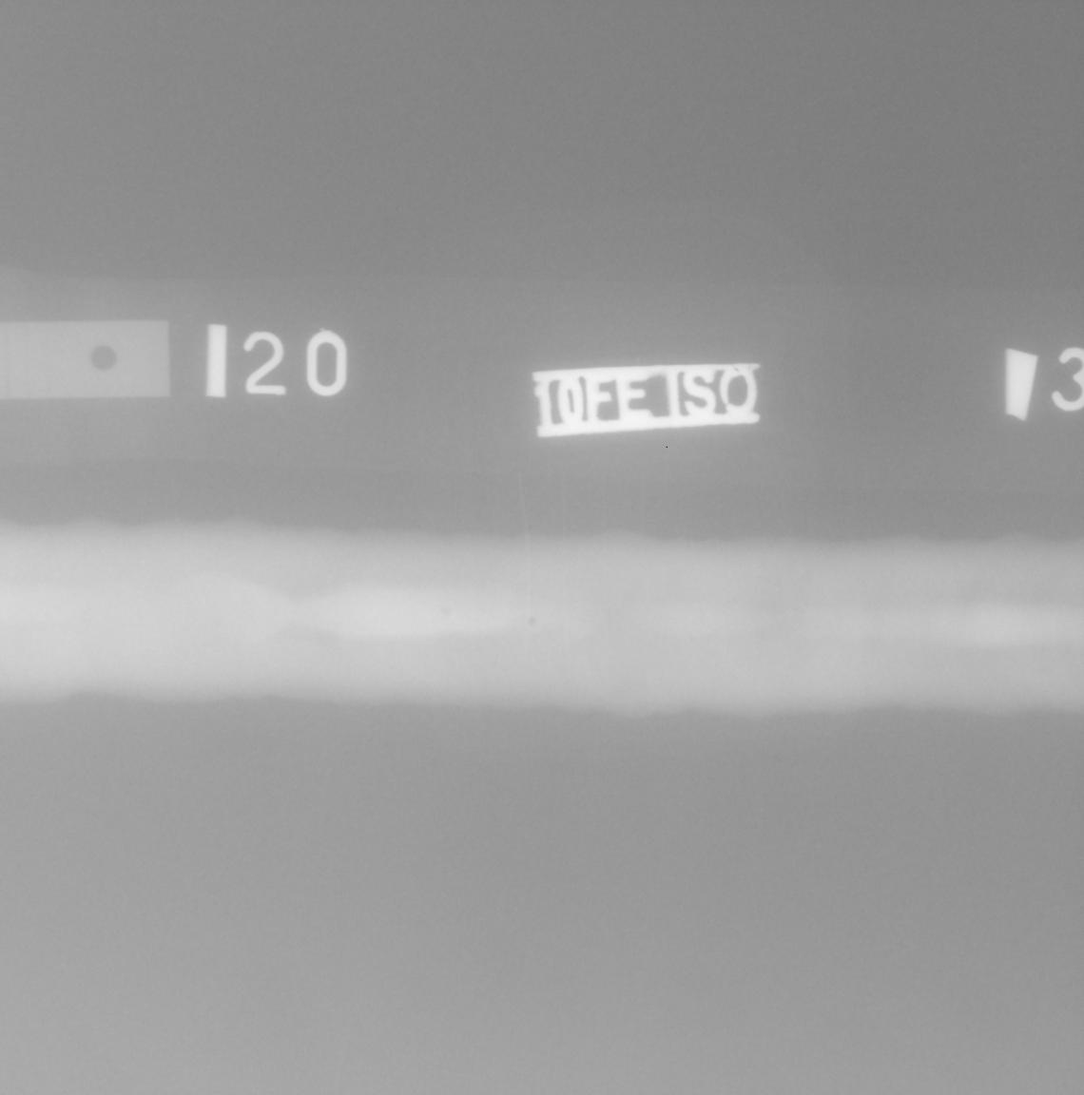Pore/Porosity: (442, 608, 451, 616), (529, 618, 536, 626)
